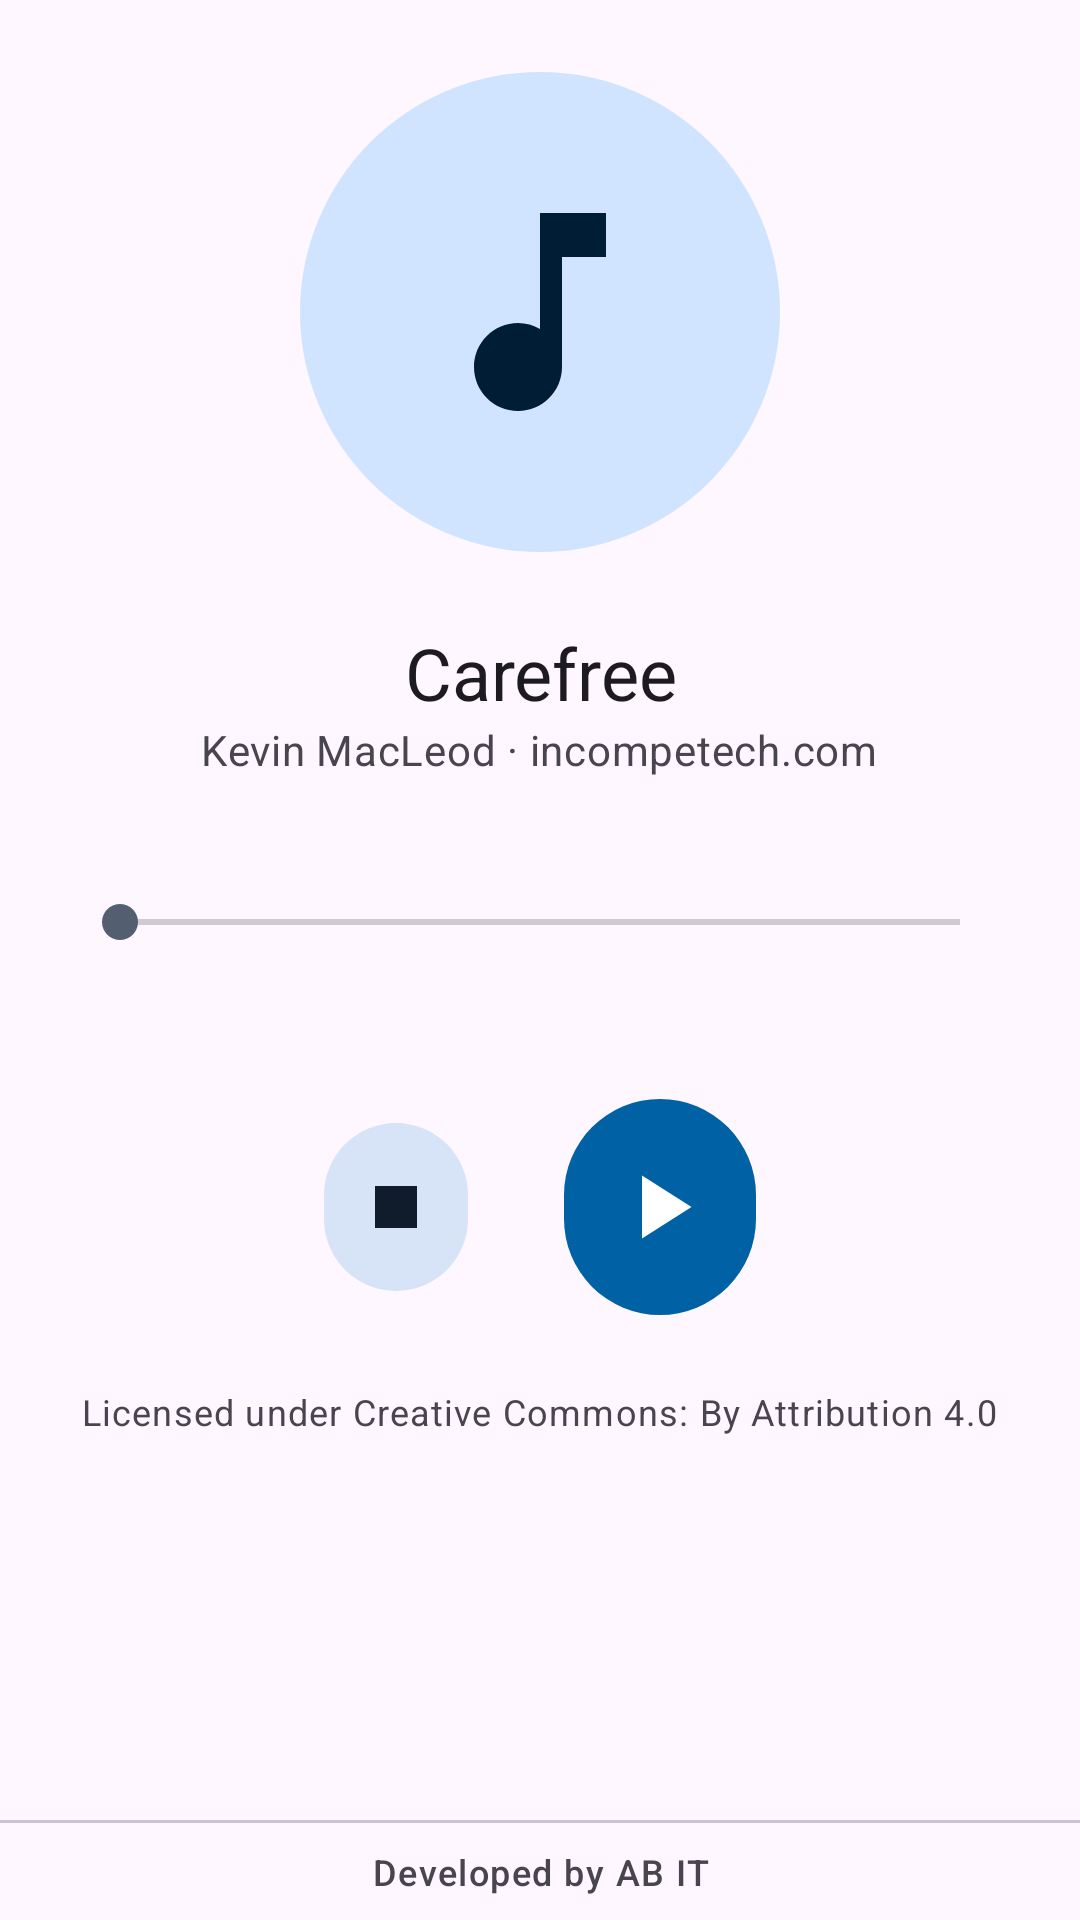

Named icons in this screenshot (1080px×1920px) and their bounding boxes, Rect(x1, y1, x2, y2):
music note: Rect(474, 213, 606, 411)
Play: Rect(564, 1099, 756, 1315)
Stop: Rect(324, 1123, 468, 1291)
